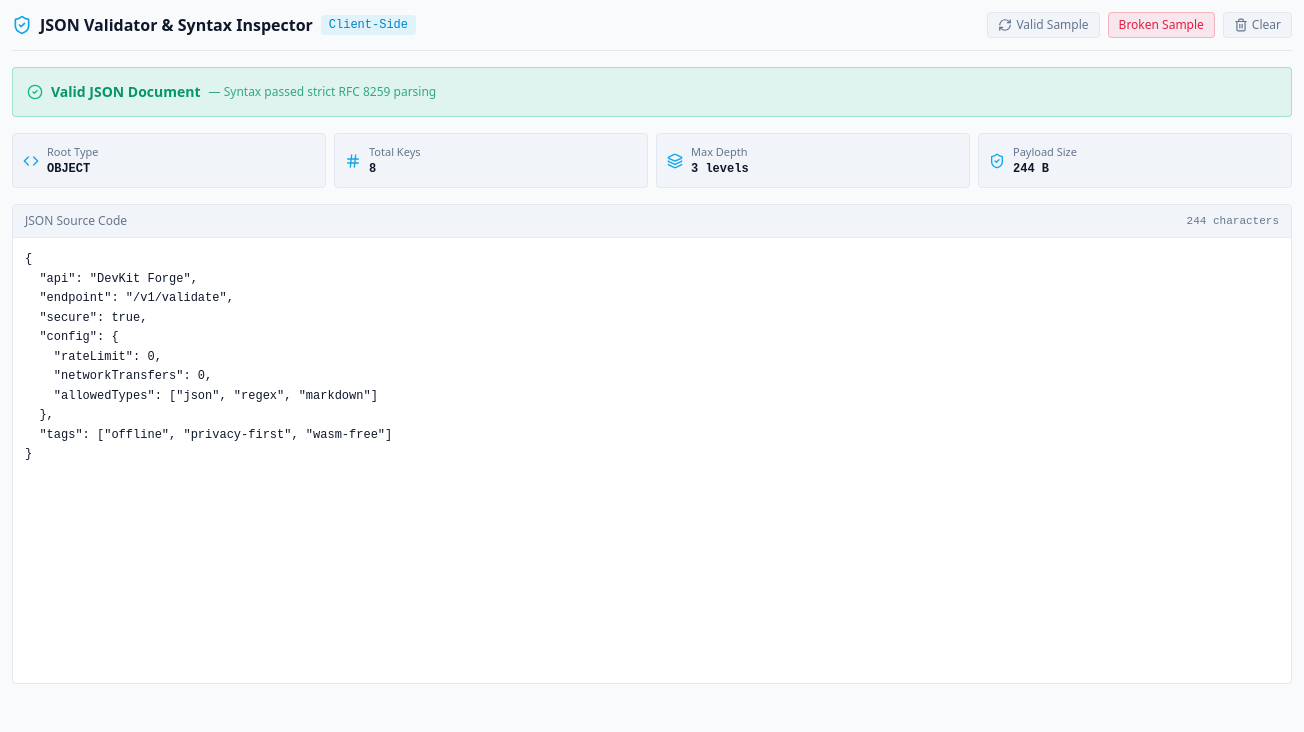
Scenario: JsonValidator Component › detects syntax errors and displays informative message
The width and height of the screenshot is (1304, 732).
Click the button titled "broken sample" at (1161, 25), box [1108,12,1215,38]
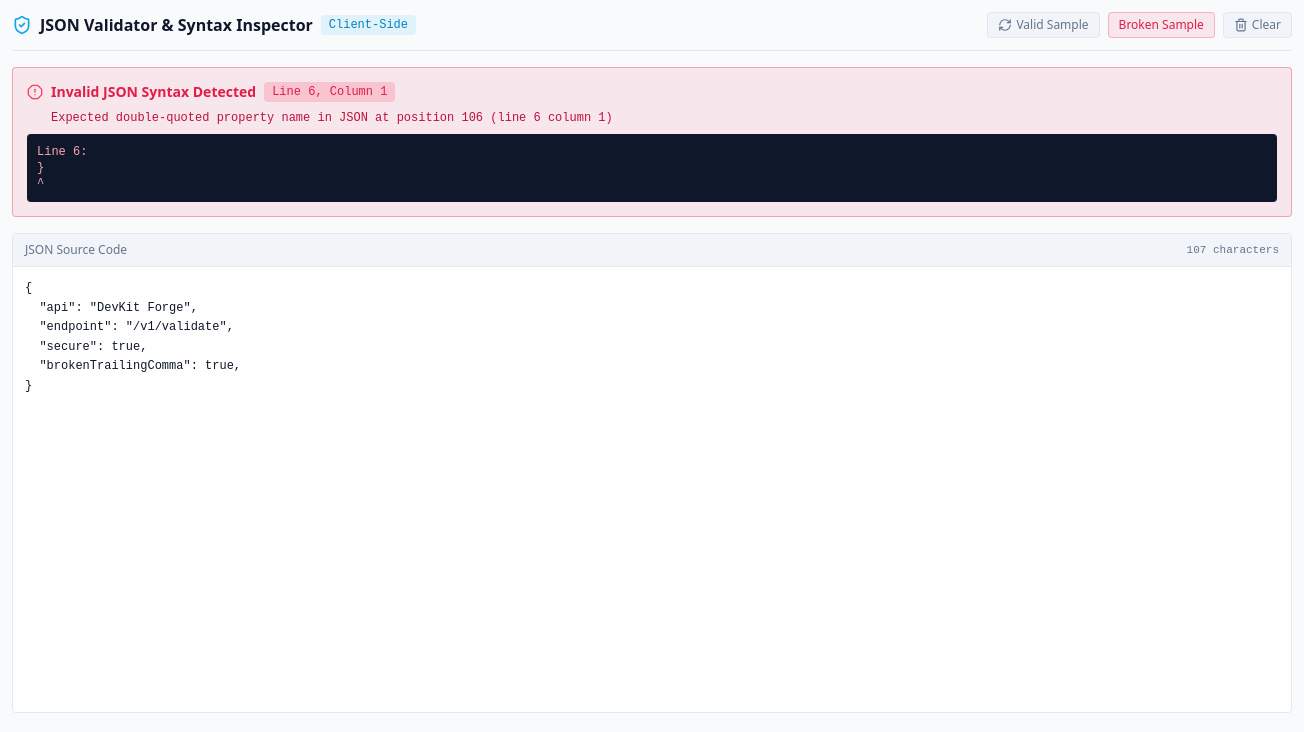
Check: the text "Invalid JSON Syntax Detected" is shown, box [51,82,256,102]
